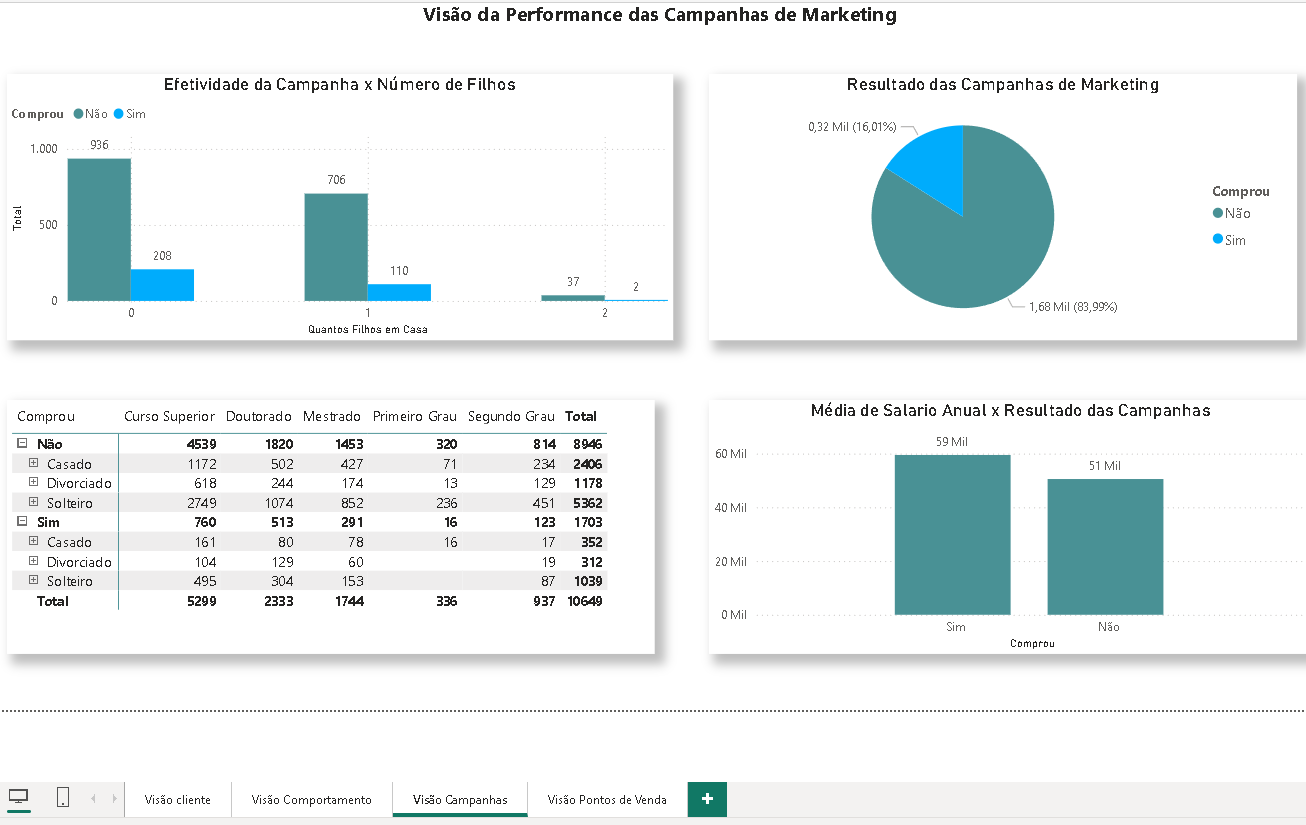

The page's visual inventory and layout, read from the dashboard file:
{"tool":"powerbi","page":{"name":"Visão Campanhas","canvas":[1280,720],"ordinal":2},"visuals":[{"type":"textbox","box":[9.7,0,1270.3,64.2],"z":0},{"type":"pieChart","title":"Resultado das Campanhas de Marketing","fields":{"Category":["DadosMarketing.Comprou"],"Y":["CountNonNull(DadosMarketing.ID)"]},"box":[692.5,101.2,571.9,258.7],"z":1000},{"type":"clusteredColumnChart","title":"Média de Salario Anual  x Resultado das Campanhas","fields":{"Category":["DadosMarketing.Comprou"],"Y":["Avg(DadosMarketing.Salario Anual)"]},"box":[692.5,418.2,587.5,247.1],"z":2000},{"type":"pivotTable","fields":{"Rows":["DadosMarketing.Comprou","DadosMarketing.Estado Civil","DadosMarketing.Pais"],"Values":["Sum(DadosMarketing.Numero Visitas WebSite Mes)"],"Columns":["DadosMarketing.Escolaridade"]},"box":[9.7,418.2,630.3,247.1],"z":3000},{"type":"clusteredColumnChart","title":"Efetividade da Campanha x Número de Filhos","fields":{"Category":["DadosMarketing.Filhos em Casa"],"Series":["DadosMarketing.Comprou"],"Y":["CountNonNull(DadosMarketing.Filhos em Casa)"]},"box":[9.7,101.2,647.8,258.7],"z":4000}]}

Visuals, with their boxes on the page's 1280x720 design canvas (x1, y1, x2, y2). These are canvas units, not pixel positions in the 1306x825 screenshot, which may show the page scaled, cropped or inside an application window:
textbox: <box>10,0,1280,64</box>
"Resultado das Campanhas de Marketing" pieChart: <box>692,101,1264,360</box>
"Média de Salario Anual  x Resultado das Campanhas" clusteredColumnChart: <box>692,418,1280,665</box>
pivotTable - DadosMarketing.Comprou x DadosMarketing.Estado Civil: <box>10,418,640,665</box>
"Efetividade da Campanha x Número de Filhos" clusteredColumnChart: <box>10,101,658,360</box>
